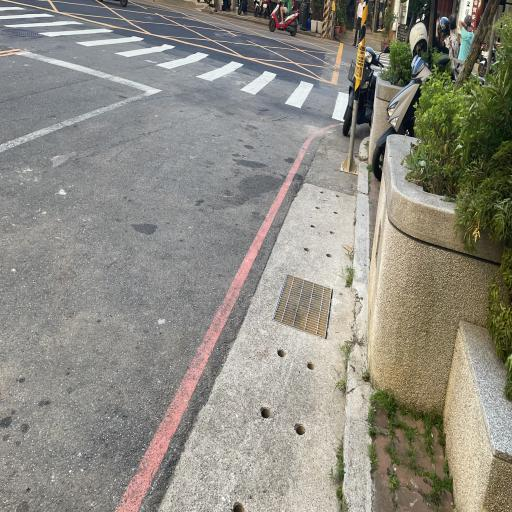redline: (114, 121, 350, 510)
